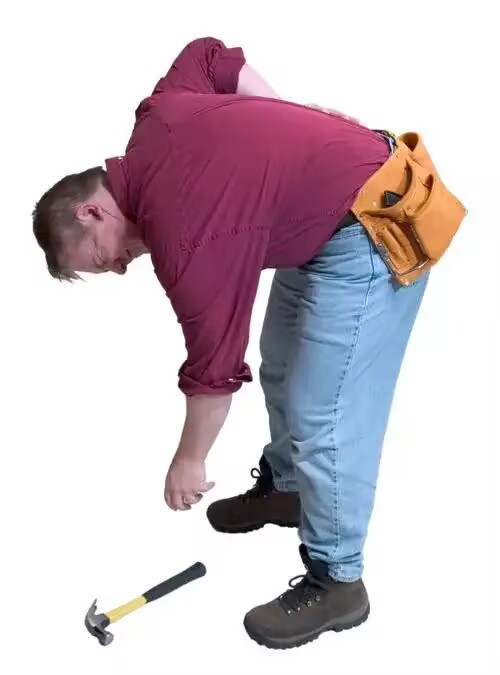bending: (30, 21, 471, 626)
